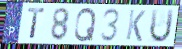3: (99, 7, 121, 43)
8: (50, 6, 71, 43)
K: (125, 9, 148, 43)
Q: (73, 7, 98, 43)
T: (26, 7, 46, 40)
U: (148, 8, 175, 45)
